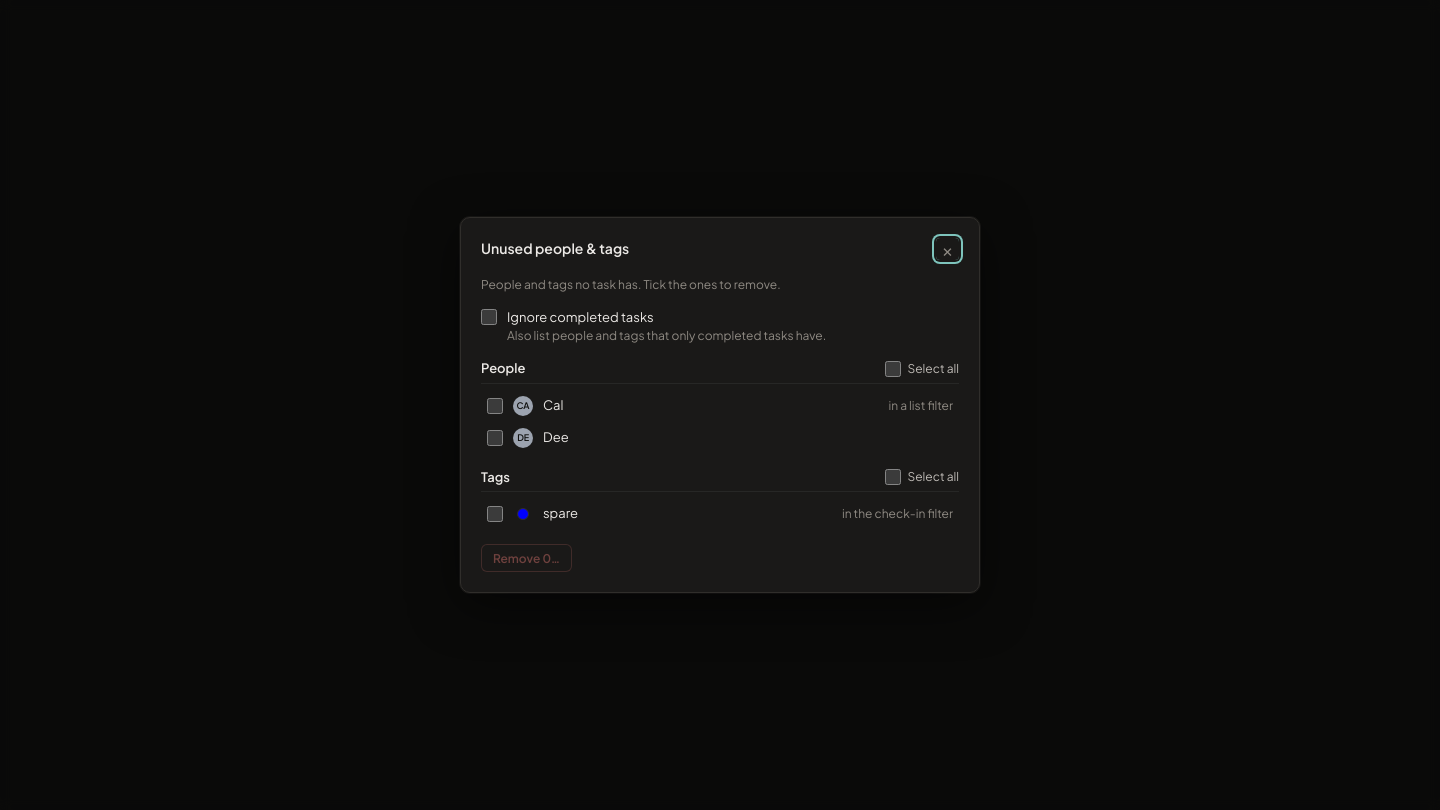
UnusedEntitiesDialog › Ignore completed tasks also lists those only completed tasks have; turning it off drops their ticks
The image size is (1440, 810).
Click the checkbox labelled "Ignore completed tasks": (489,317) [481,309,497,325]
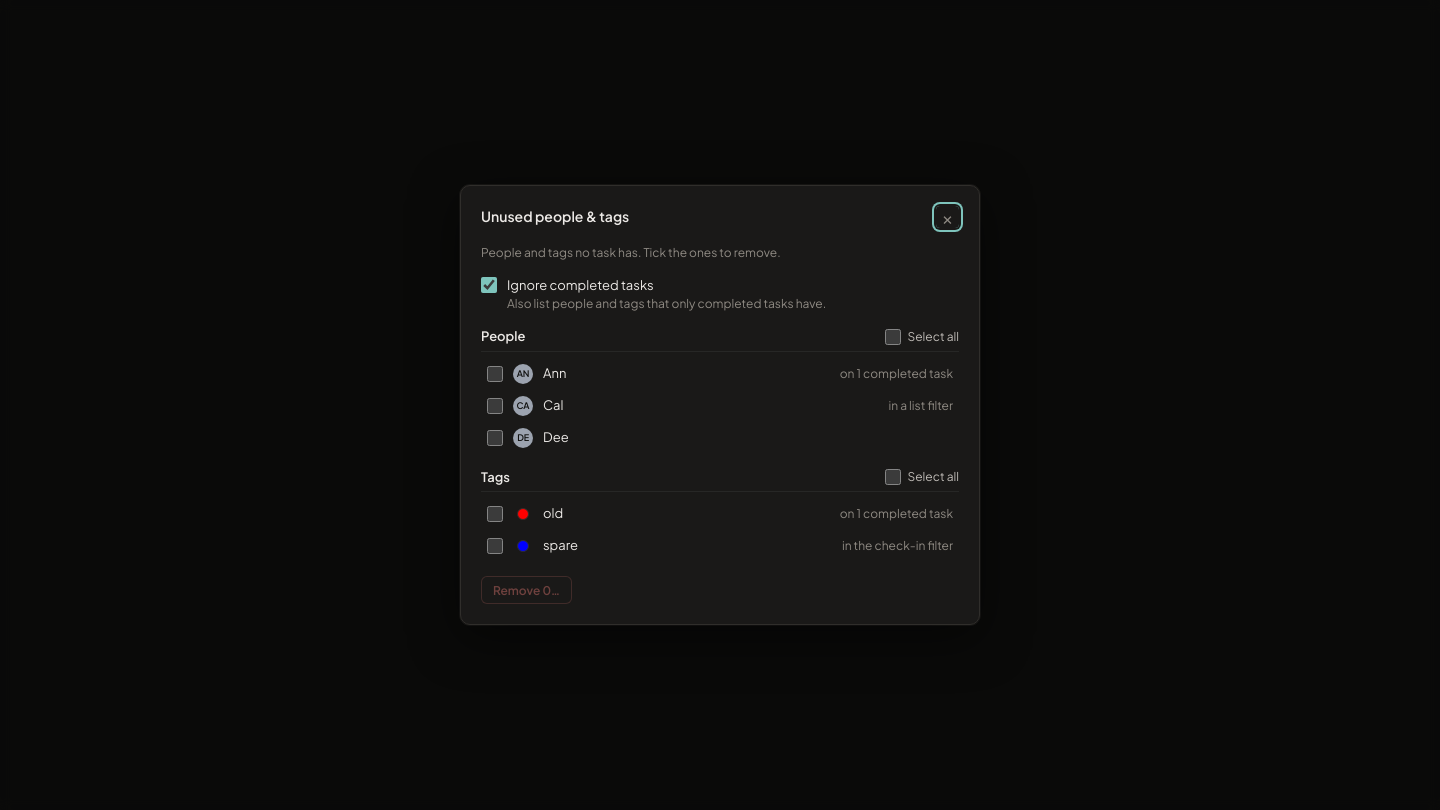
Click the checkbox labelled "AN Ann on 1 completed task": (495,374) [487,366,503,382]
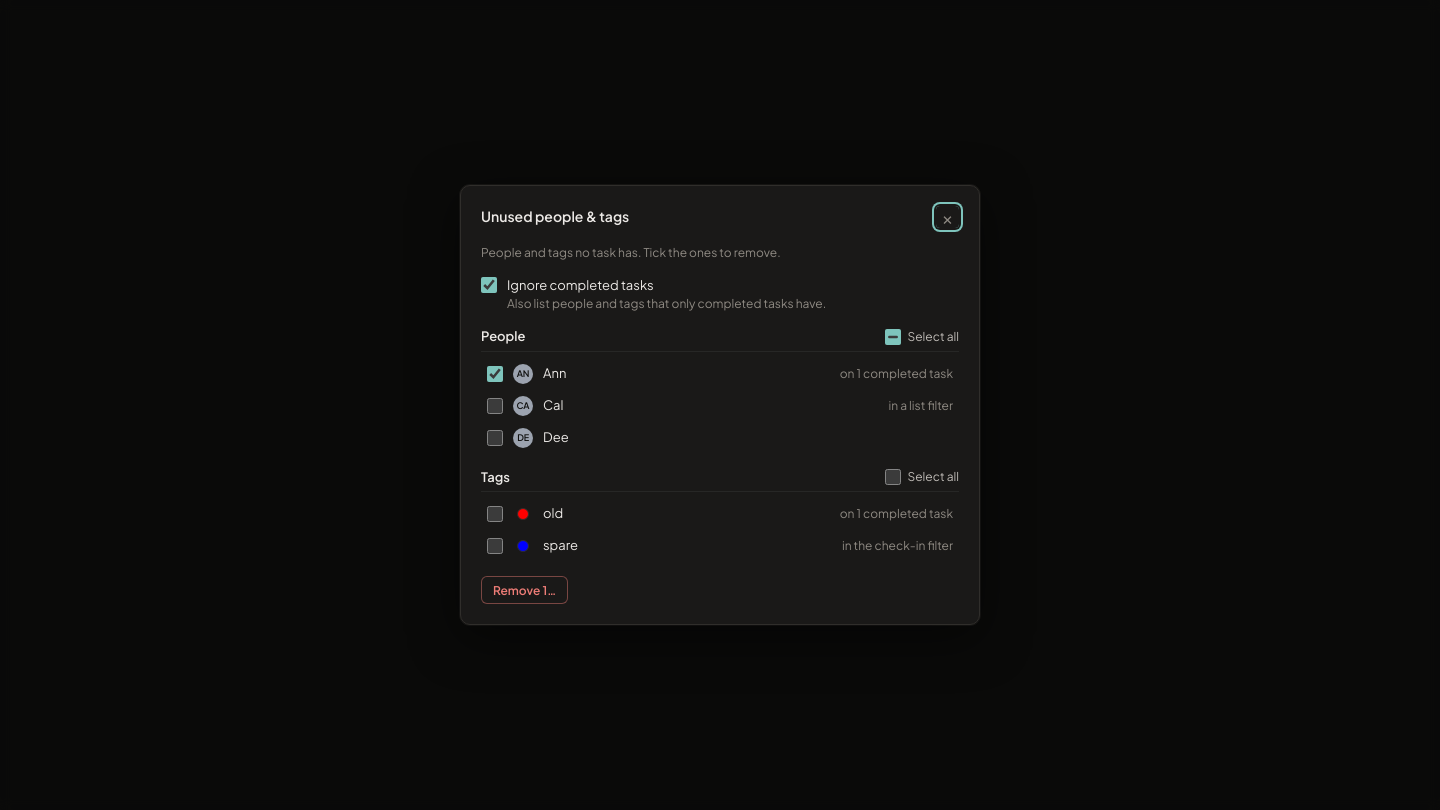
Click the checkbox labelled "DE Dee": (495,438) [487,430,503,446]
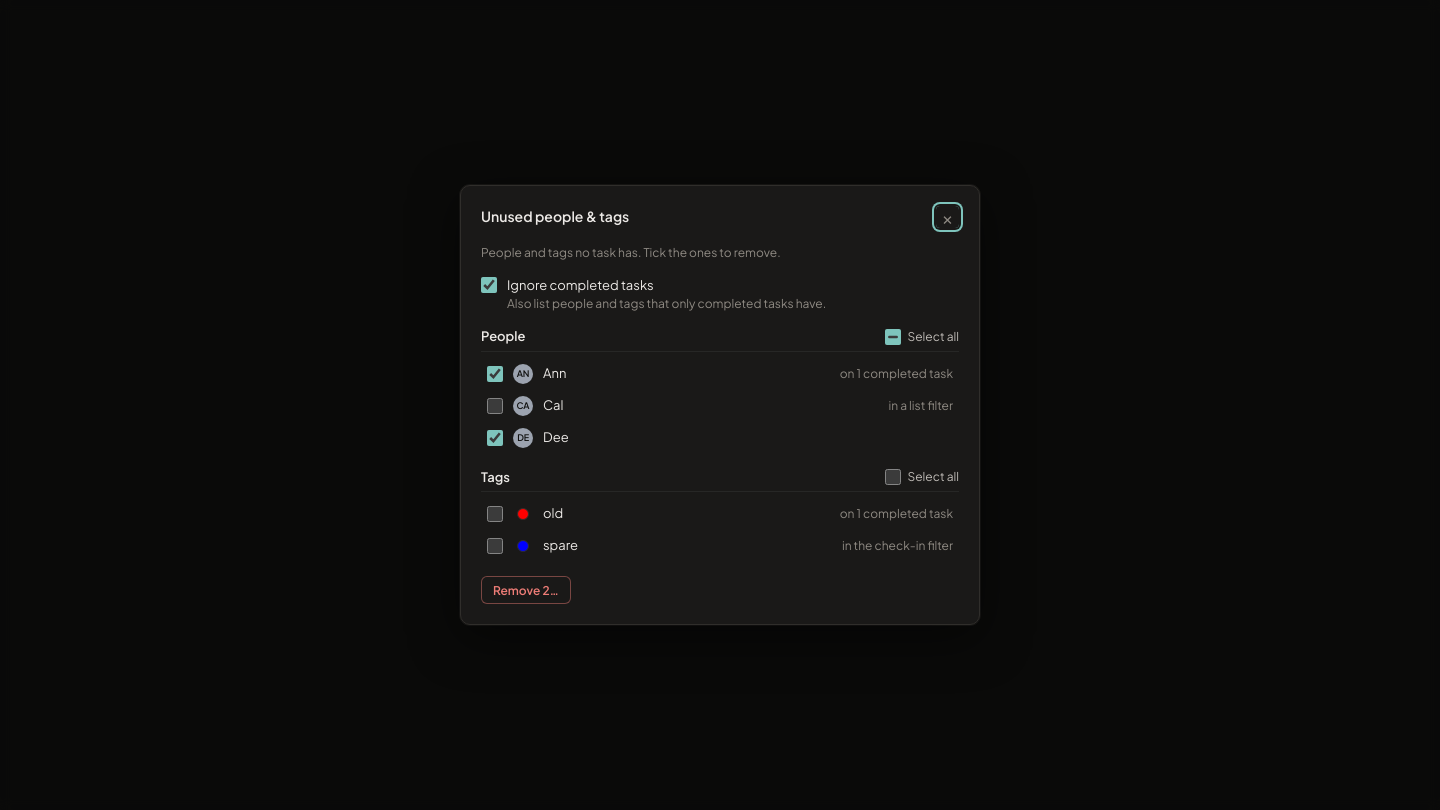
Check: the button "Remove 2…" is shown, box [481,576,571,604]
Click the checkbox labelled "Ignore completed tasks": (489,285) [481,277,497,293]
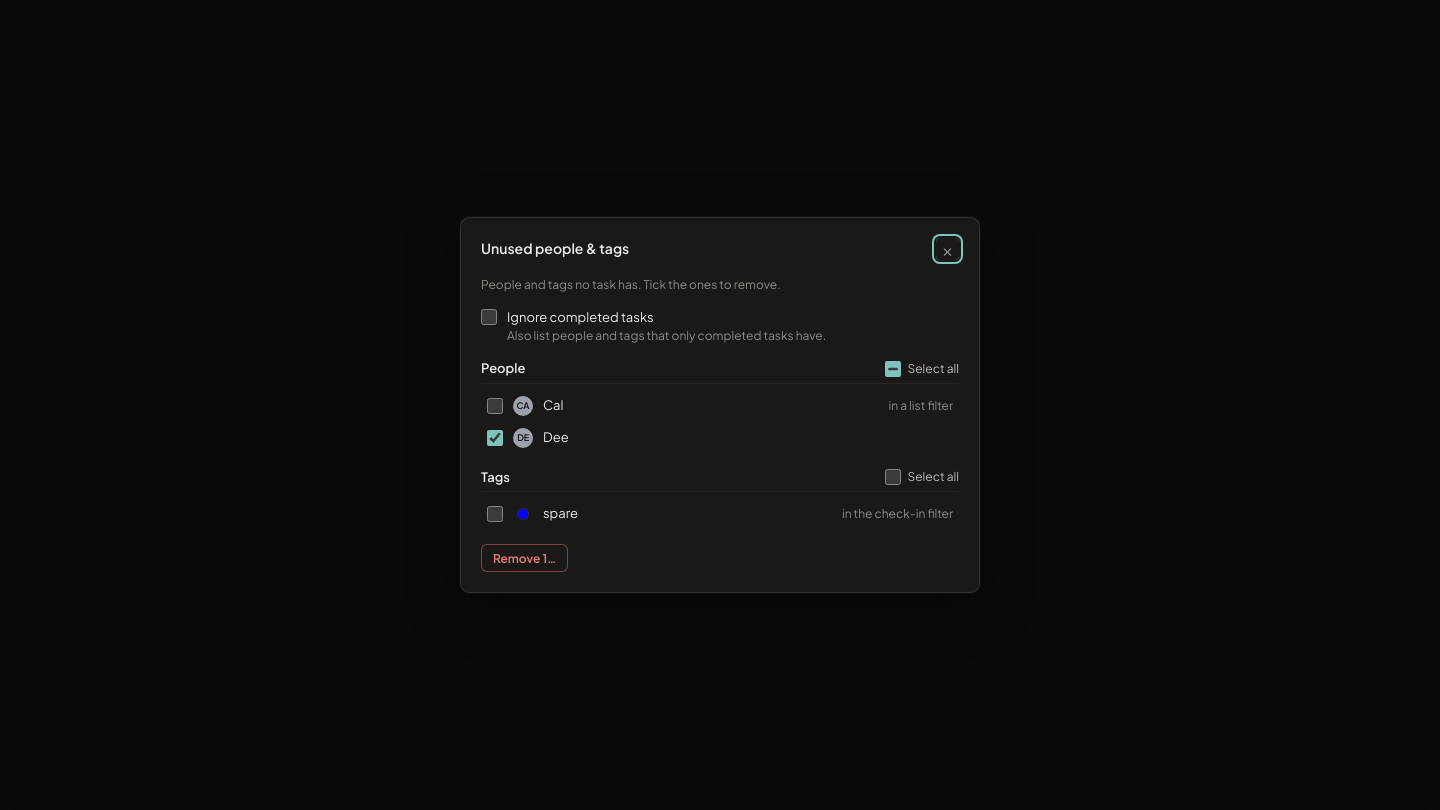
Check: the button "Remove 1…" is shown, box [481,544,568,572]
